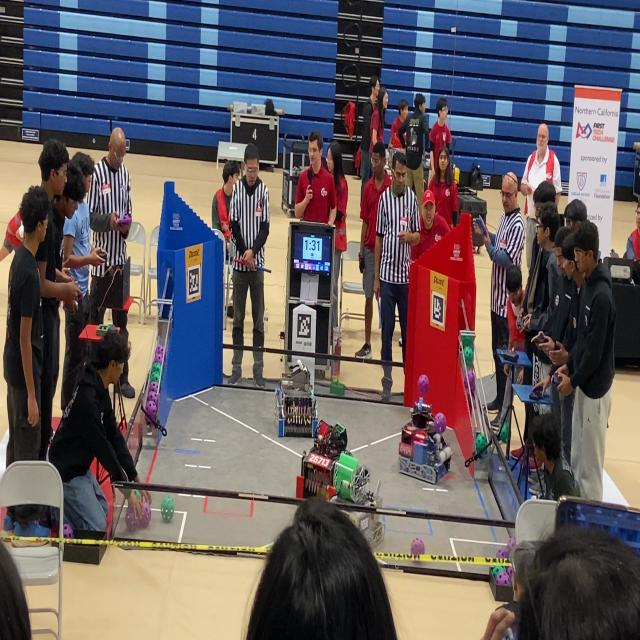artifact_green: (160, 496, 175, 523), (475, 433, 488, 457), (496, 568, 510, 586), (150, 363, 162, 384), (463, 346, 474, 368), (475, 433, 487, 451), (500, 422, 508, 443), (496, 547, 509, 559), (491, 566, 503, 578), (462, 335, 473, 348), (506, 566, 513, 585), (150, 371, 160, 383), (507, 538, 516, 551), (151, 363, 161, 373), (150, 363, 157, 376), (156, 343, 164, 354), (133, 490, 141, 500), (155, 363, 163, 373), (157, 369, 162, 384), (156, 363, 163, 373), (157, 371, 162, 384), (423, 158, 428, 170), (150, 373, 157, 381), (152, 363, 159, 369)
artifact_purple: (125, 505, 139, 533), (140, 503, 151, 528), (465, 369, 476, 393), (434, 413, 446, 434), (418, 375, 429, 397), (411, 538, 424, 555), (496, 571, 510, 586), (146, 401, 157, 418), (490, 566, 502, 578), (496, 548, 509, 559), (63, 524, 73, 538), (148, 382, 159, 393), (147, 392, 157, 404), (145, 399, 153, 413), (154, 352, 163, 364), (508, 538, 516, 551), (466, 390, 472, 406), (145, 415, 153, 426), (156, 344, 164, 355), (506, 566, 513, 578), (155, 344, 163, 354)
